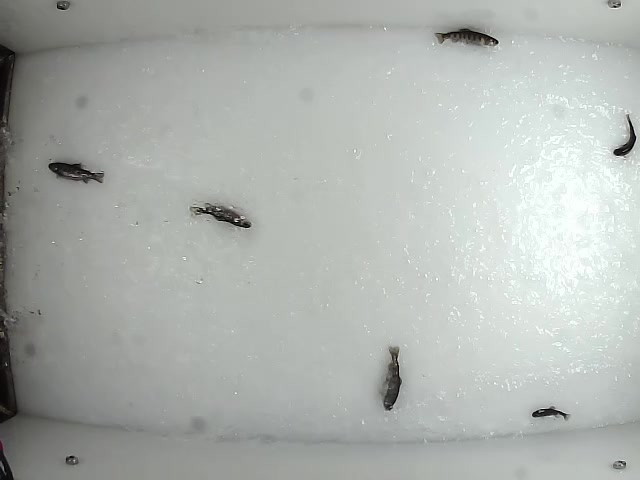fish: (190, 200, 252, 229), (43, 159, 107, 187), (377, 344, 402, 413), (433, 26, 499, 49), (610, 112, 639, 159), (529, 403, 573, 421)
